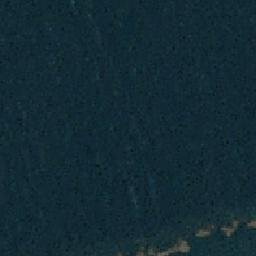debris: (218, 219, 239, 237), (193, 225, 214, 238), (245, 217, 256, 231), (173, 239, 191, 247)
